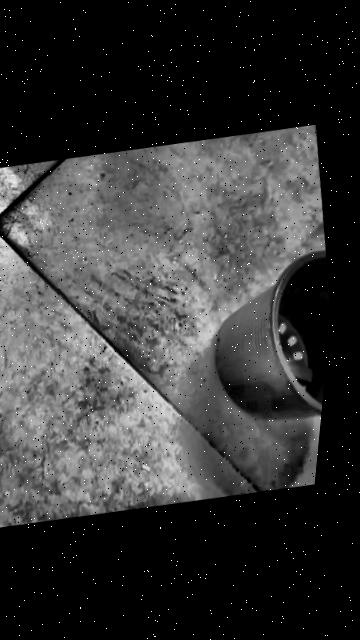pot: (190, 245, 337, 444)
